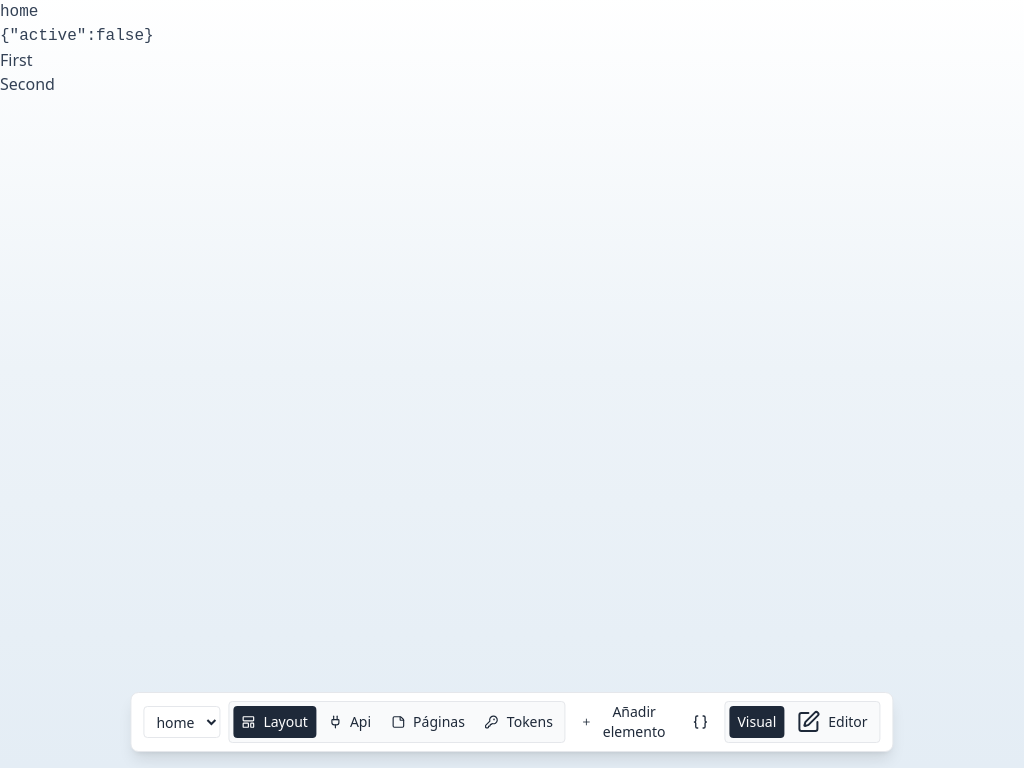
DevEditorLayer / mutual exclusion between selection panel and Monaco (T2) › opening Monaco while a node is selected clears the selection and hides the selection panel
Click the button with test id "dev-editor-toolbar-mode-editor". click: (832, 722)
box: [788,706,876,738]
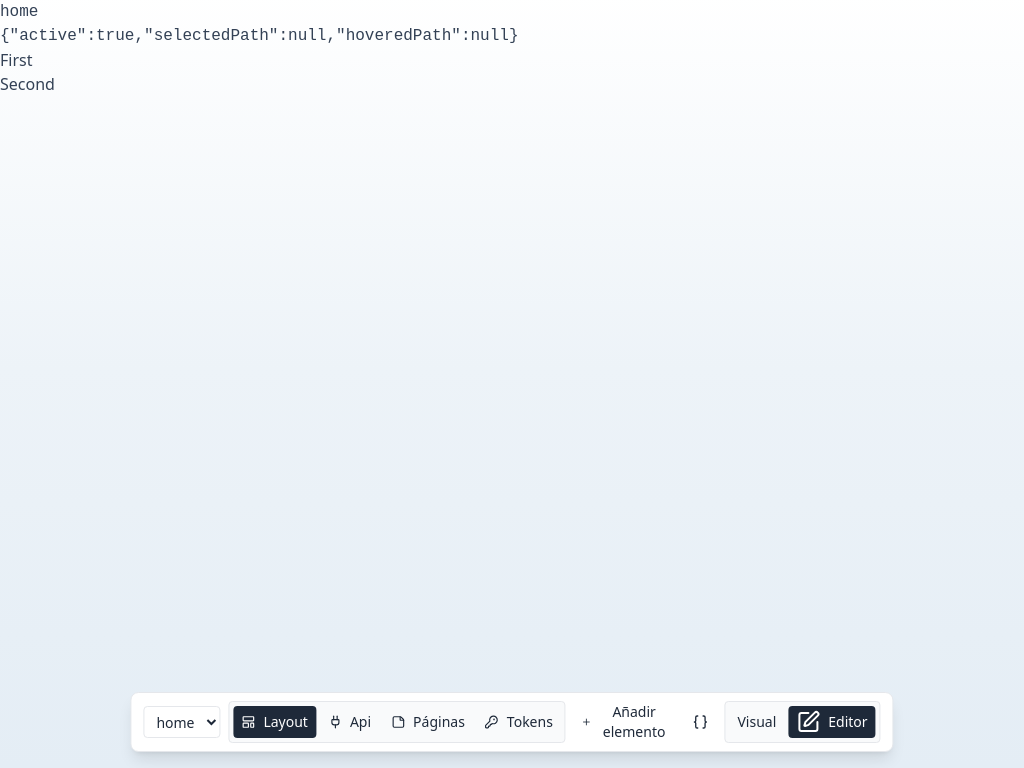
Click the text with test id "probe-node-a". click: (16, 60)
box: [0,49,32,71]
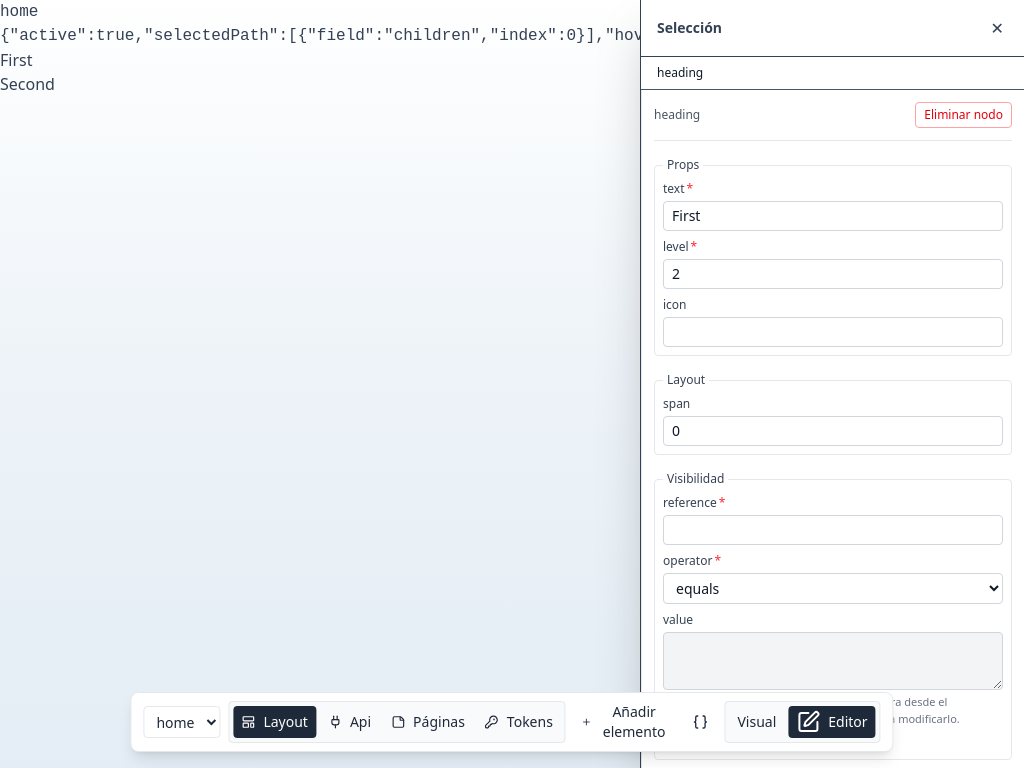
Expected: the element with test id "dev-editor-selection-overlay" is shown, [640,0,1023,767]
Click the button with test id "dev-editor-toolbar-monaco-toggle". click: (700, 722)
box: [684,706,716,738]
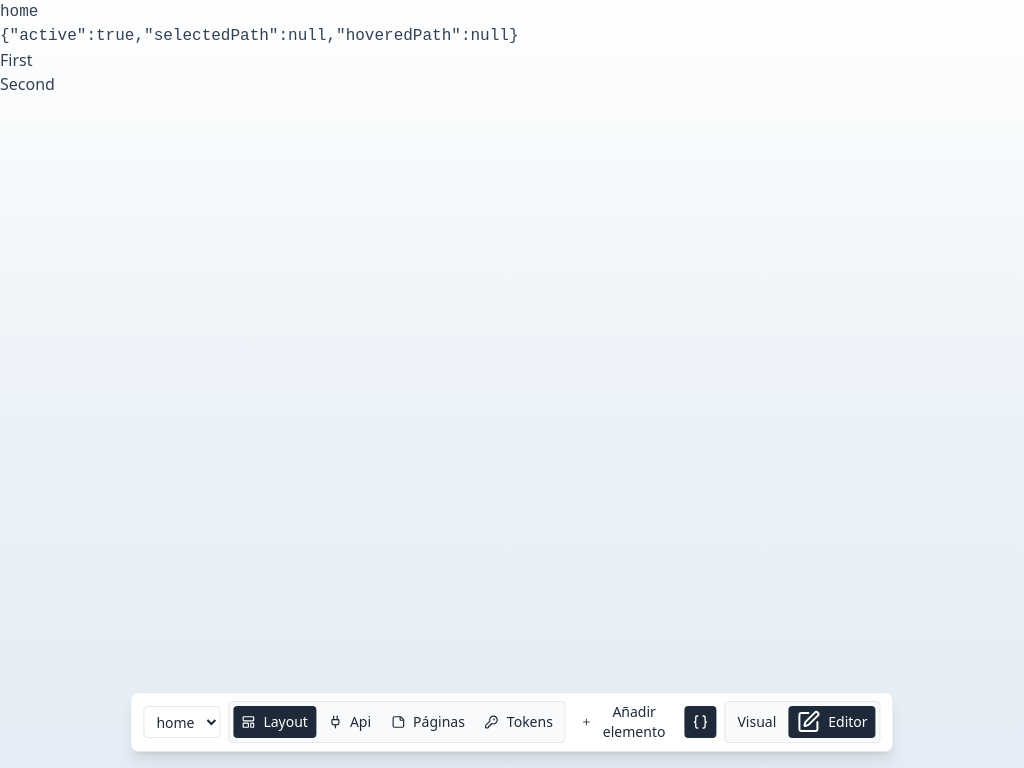
Expected: the element with test id "dev-editor-selection-overlay" is gone
